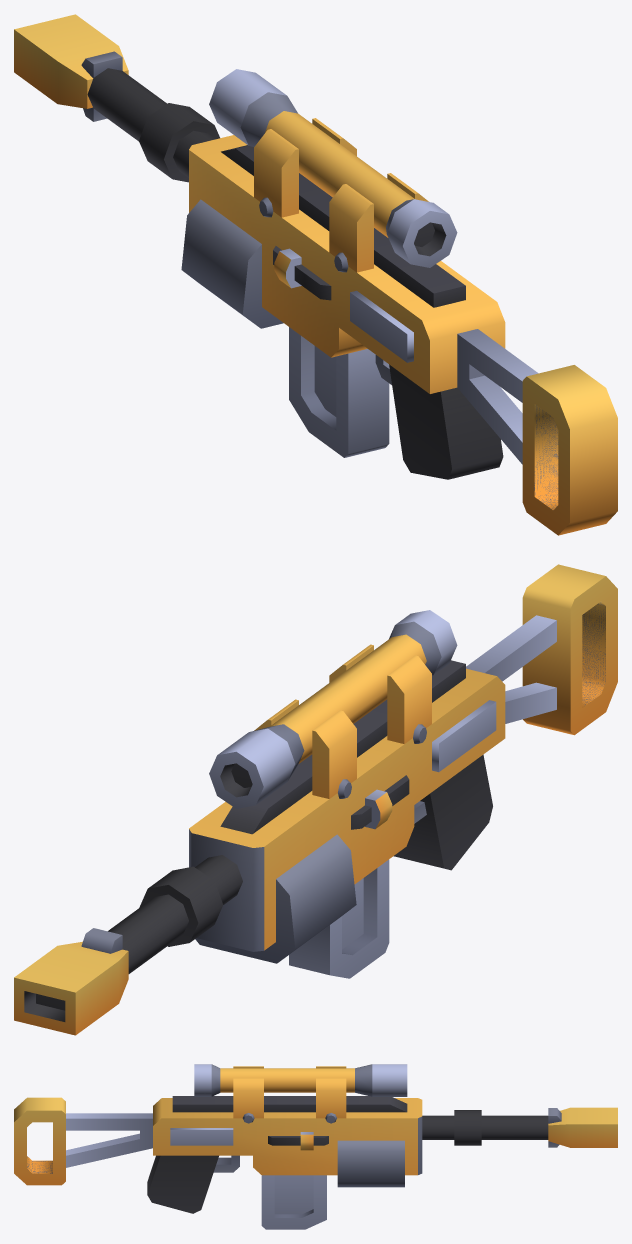
File: rifle.glb
The picture shows the model from 3 angles, top to bottom: view 1: azimuth 30°, elevation 25°; view 2: azimuth 150°, elevation 25°; view 3: azimuth 270°, elevation 25°; orthographic projection. The views are drawn at different scales.
Parts seen in each view (by area): view 1: blaster-e, scope, magazine; view 2: blaster-e, scope, magazine; view 3: blaster-e, scope, magazine.
Part boxes in pixels (x1,y1,x2,y2): blaster-e: (14,14,617,535); scope: (209,69,457,272); magazine: (289,327,389,457); blaster-e: (14,564,617,1035); scope: (209,610,457,808); magazine: (289,859,389,978); blaster-e: (14,1096,617,1213); scope: (194,1064,407,1123); magazine: (261,1175,326,1229).
Bounding box in the file's own units: 0.1664 × 0.405 × 1.39.
Materials: 1 (1 with a texture image).
